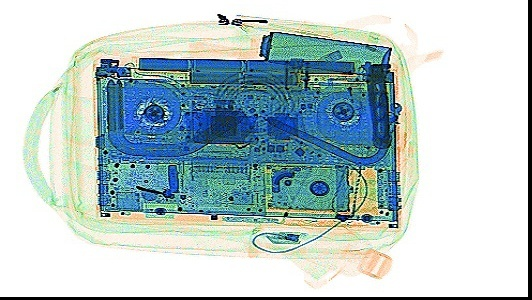knife: (364, 60, 393, 148)
lighter: (339, 57, 363, 110)
pressure: (247, 29, 393, 80)
